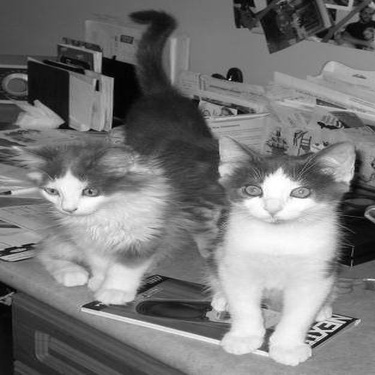cat: (11, 10, 217, 309), (209, 138, 359, 366)
